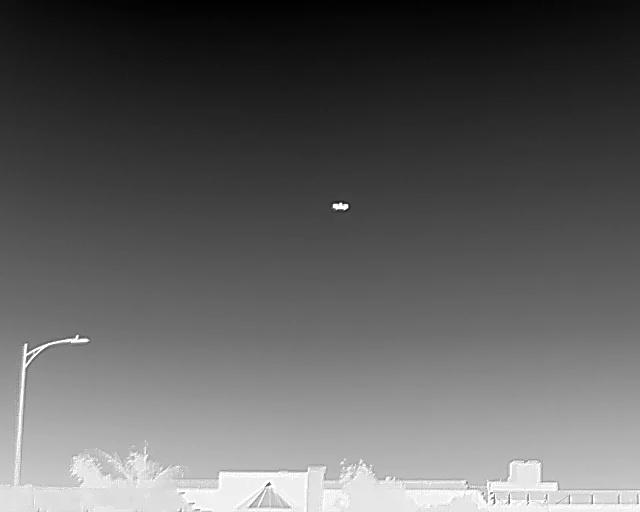fpv-drone: (332, 202, 350, 211)
